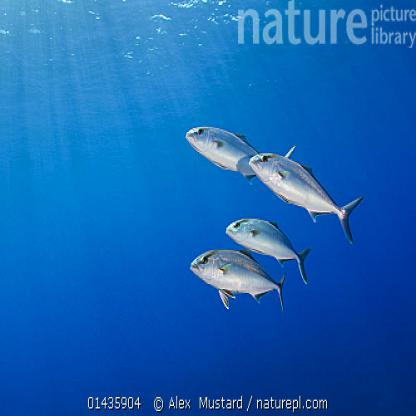Carangidae -Jacks-: (246, 147, 363, 250), (188, 240, 291, 323), (224, 214, 317, 288), (182, 112, 273, 183)
